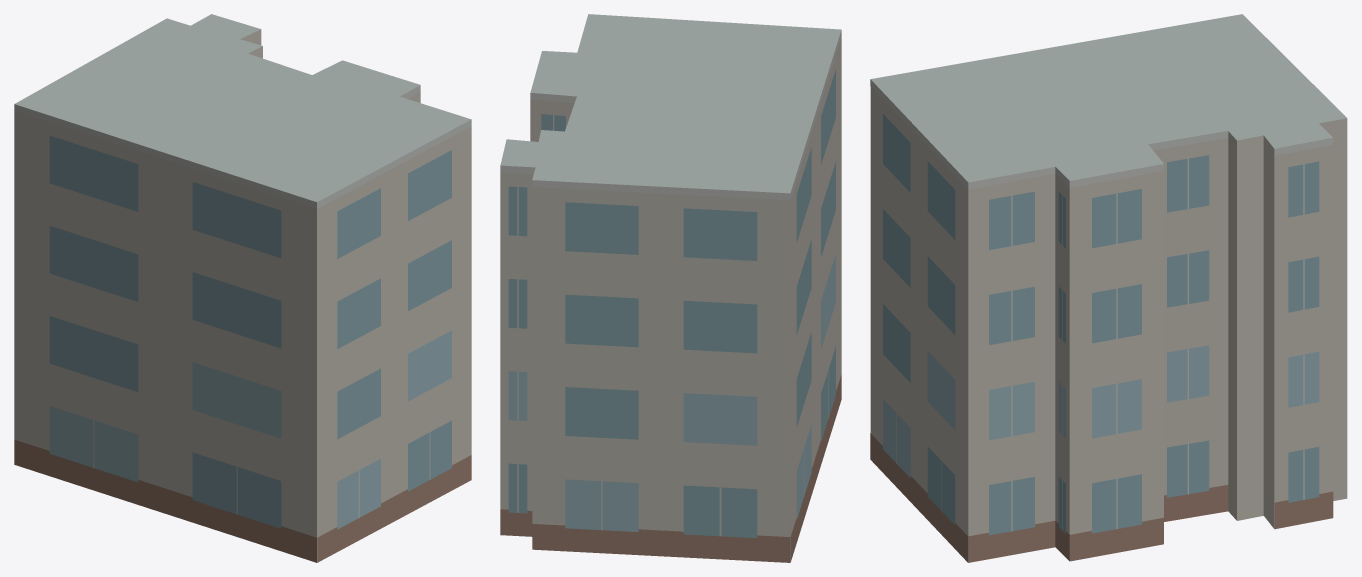
The model's file is survey-upis-32942431.glb.
The picture shows the model from 3 angles, left to right: view 1: azimuth 30°, elevation 25°; view 2: azimuth 150°, elevation 25°; view 3: azimuth 270°, elevation 25°; orthographic projection. The views are drawn at different scales.
Visible parts, largest first — view 1: survey-upis-32942431.tmp; view 2: survey-upis-32942431.tmp; view 3: survey-upis-32942431.tmp.
Boxes of the visible parts, x1=… form: survey-upis-32942431.tmp: x1=14, y1=14, x2=471, y2=562; survey-upis-32942431.tmp: x1=500, y1=14, x2=841, y2=562; survey-upis-32942431.tmp: x1=870, y1=14, x2=1347, y2=562.
Size of the model in its own units: 12.64 by 13.3 by 15.12.
